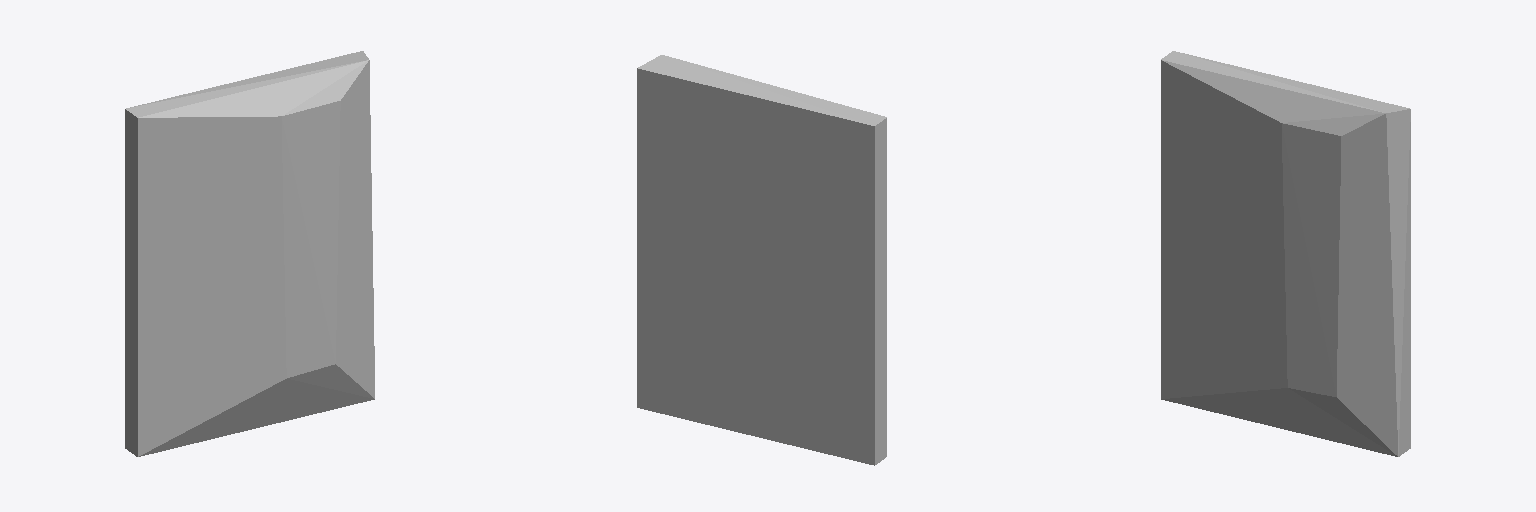
File: raw_model_collision_16.obj
3 views of the same model, side by side, from view 1: azimuth 30°, elevation 25°; view 2: azimuth 150°, elevation 25°; view 3: azimuth 330°, elevation 25° (orthographic).
Bounding box in the file's own units: 0.1099 × 0.1519 × 0.0192.